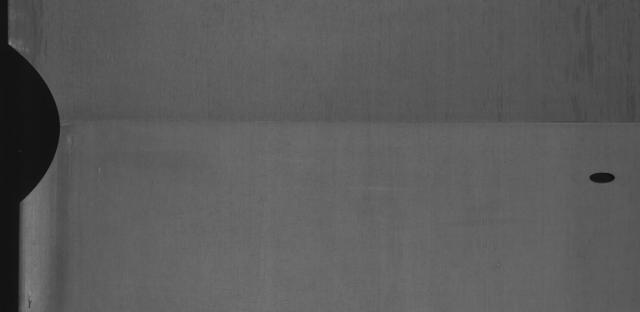punching_hole: (583, 163, 622, 187)
welding_line: (56, 114, 640, 136)
